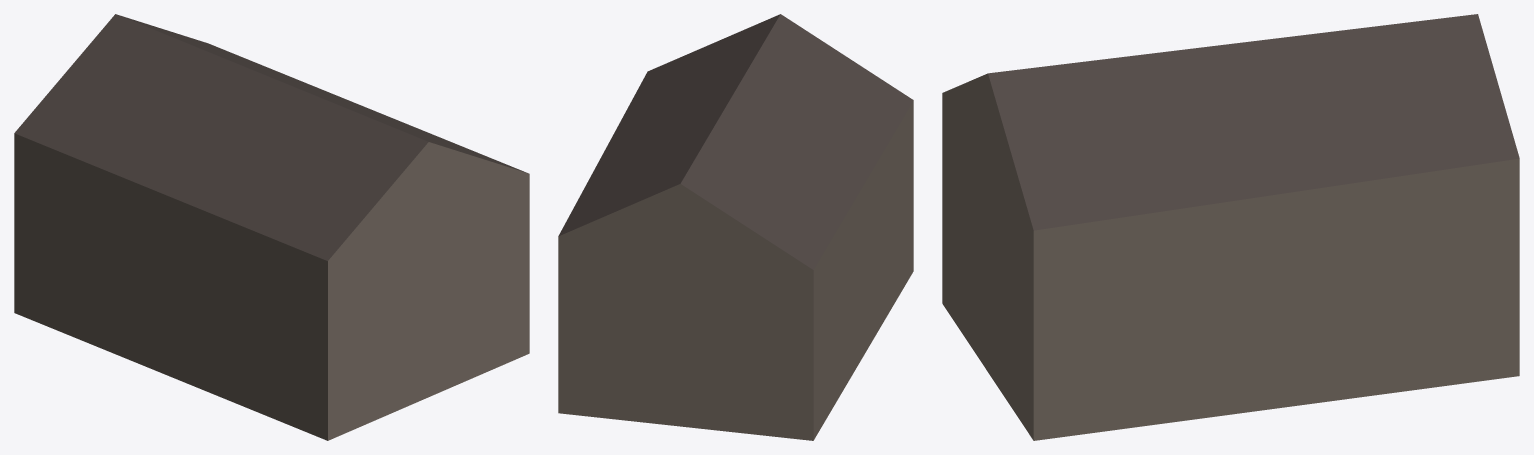
3 views of the same model, side by side, from view 1: azimuth 30°, elevation 25°; view 2: azimuth 150°, elevation 25°; view 3: azimuth 270°, elevation 25° (orthographic). The views are drawn at different scales.
Parts seen in each view (by area): view 1: HP-w783664795; view 2: HP-w783664795; view 3: HP-w783664795.
Boxes of the visible parts, x1=… form: HP-w783664795: x1=14, y1=14, x2=529, y2=440; HP-w783664795: x1=558, y1=14, x2=913, y2=440; HP-w783664795: x1=942, y1=14, x2=1519, y2=440.
Bounding box in the file's own units: 18.08 × 12.79 × 22.4.
